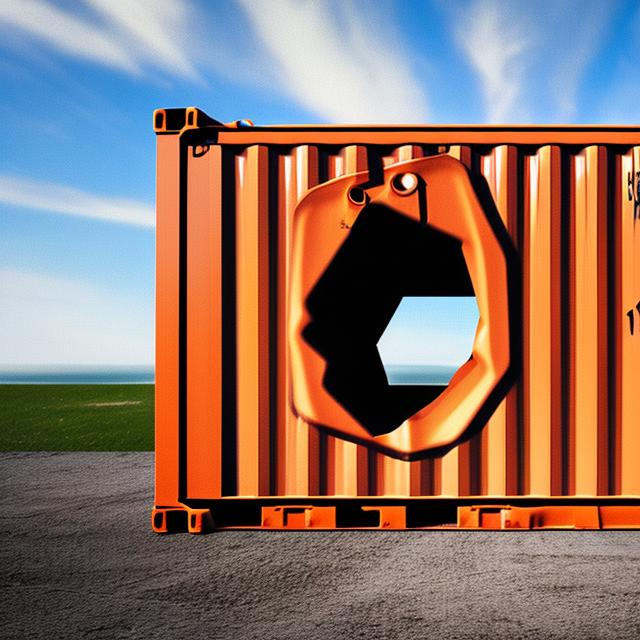hole: (295, 204, 498, 449)
